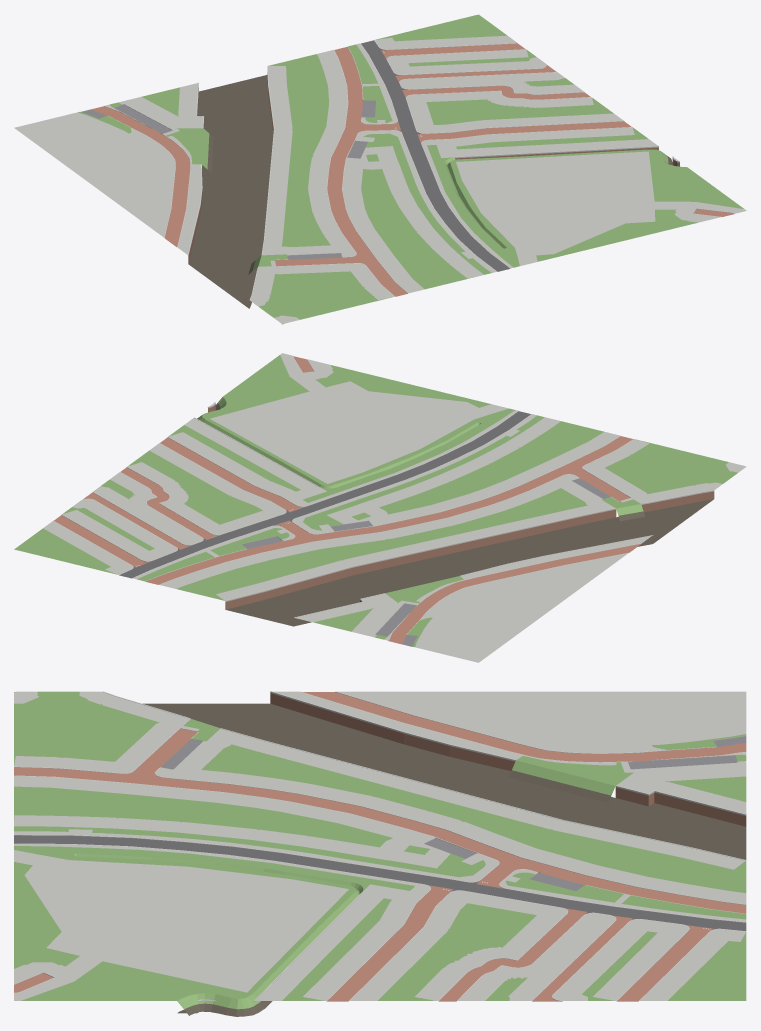
Rendered from ground_12_6.glb.
The picture shows the model from 3 angles, top to bottom: view 1: azimuth 30°, elevation 25°; view 2: azimuth 150°, elevation 25°; view 3: azimuth 270°, elevation 25°; orthographic projection. The views are drawn at different scales.
Visible parts, largest first — view 1: ground_12_6; view 2: ground_12_6; view 3: ground_12_6.
Boxes of the visible parts, x1=… form: ground_12_6: x1=14, y1=14, x2=746, y2=324; ground_12_6: x1=14, y1=353, x2=746, y2=662; ground_12_6: x1=14, y1=691, x2=746, y2=1016.
Bounding box in the file's own units: 203 × 3.68 × 200.
